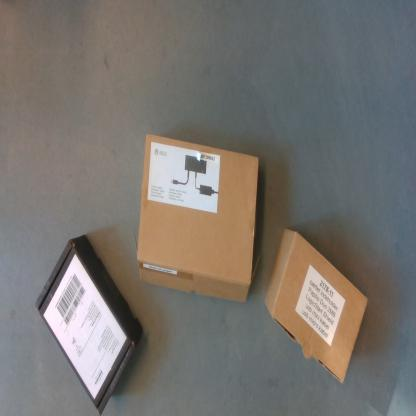label: (43, 255, 127, 399), (149, 141, 220, 215), (298, 264, 346, 347)
package: (137, 131, 258, 304), (35, 233, 145, 416), (263, 228, 369, 382)
